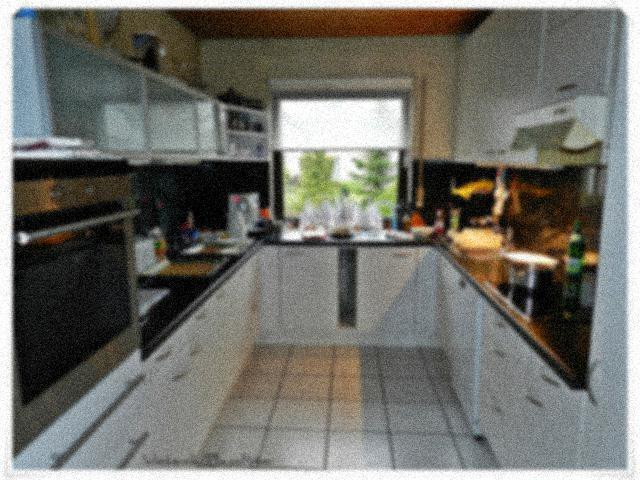Lavaplatos: (450, 221, 529, 261)
